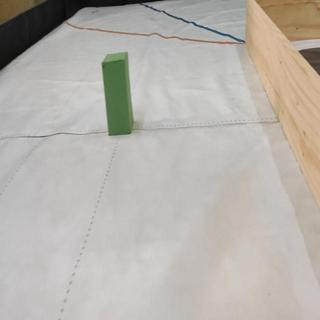greenbox: (102, 53, 134, 135)
